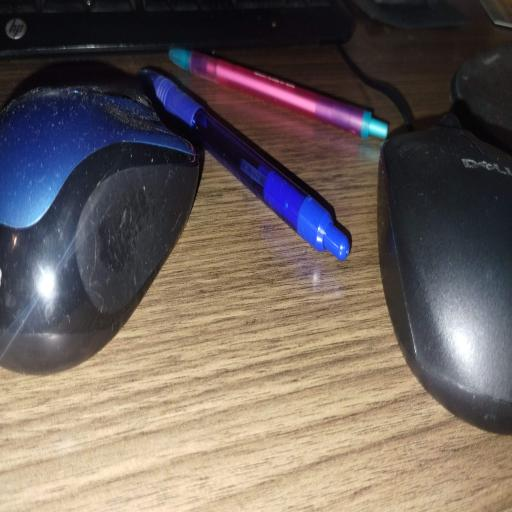mouse: (0, 87, 198, 373), (378, 115, 511, 433)
pen: (141, 70, 349, 260), (169, 49, 388, 138)
